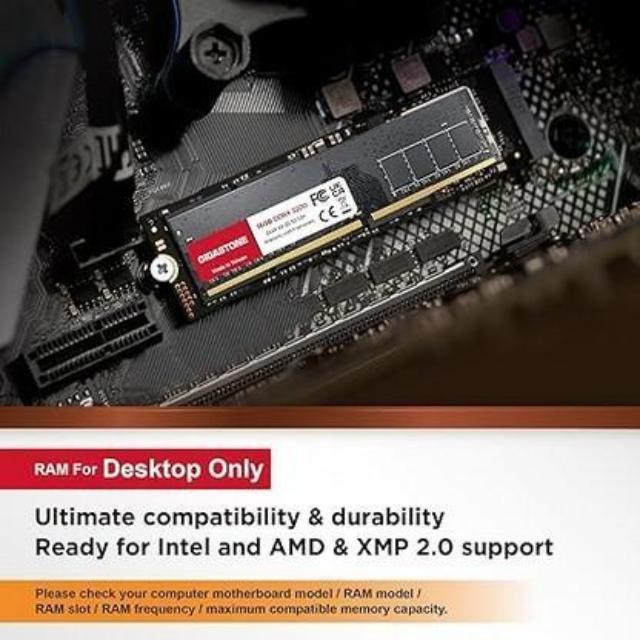RAM: (158, 86, 513, 318)
